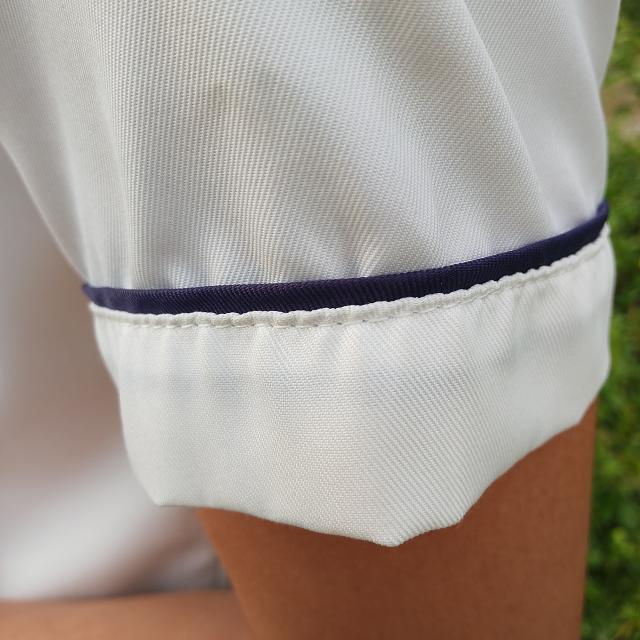education_male_uniform: (3, 0, 640, 582)
